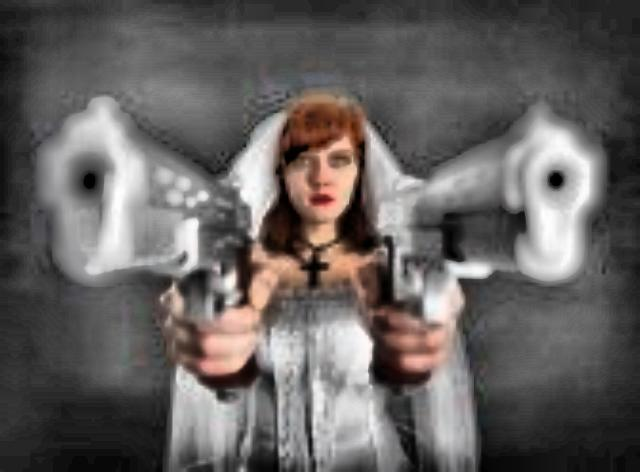pistol: (358, 100, 606, 380), (31, 91, 259, 388)
